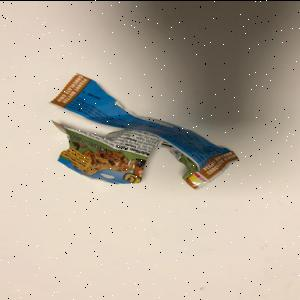Trash: (48, 70, 242, 192)
